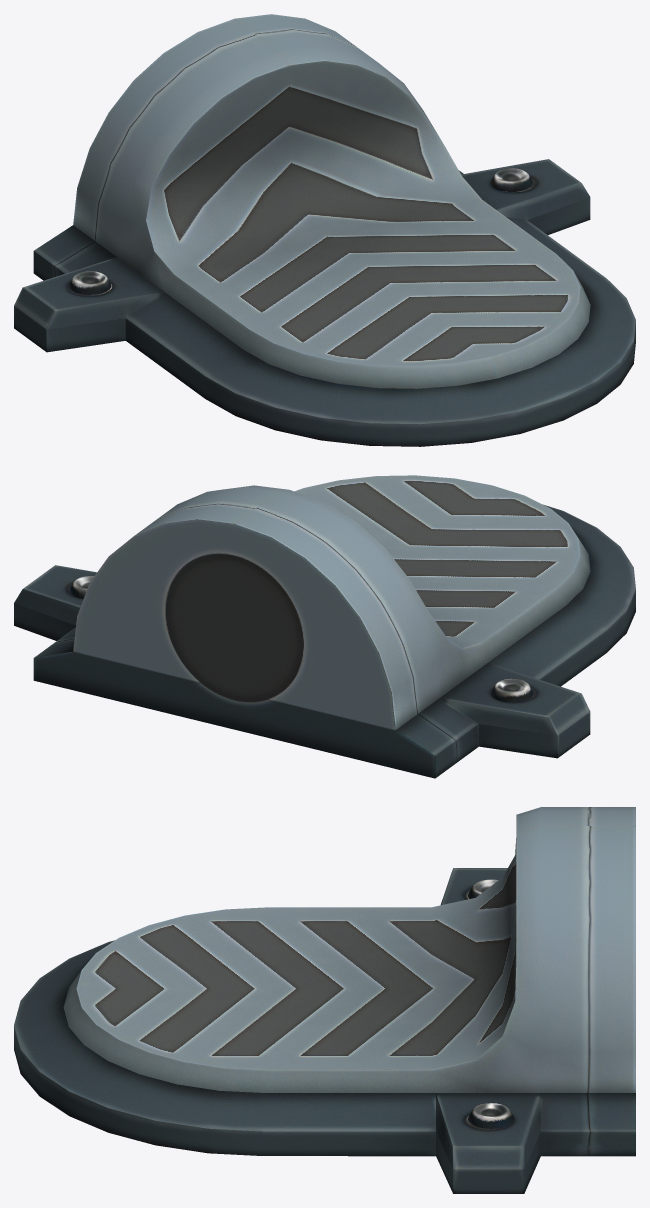
Rendered from jumppad1.obj.
3 renders of one model, top to bottom at view 1: azimuth 30°, elevation 25°; view 2: azimuth 150°, elevation 25°; view 3: azimuth 270°, elevation 25°, orthographic. The views are drawn at different scales.
Parts seen in each view (by area): view 1: jumppad4:Mesh_0_0; view 2: jumppad4:Mesh_0_0; view 3: jumppad4:Mesh_0_0.
Part boxes in pixels (x1,y1,x2,y2): jumppad4:Mesh_0_0: (14,14,635,446); jumppad4:Mesh_0_0: (14,475,635,778); jumppad4:Mesh_0_0: (14,807,635,1193).
Bounding box in the file's own units: 138 × 49.84 × 126.
